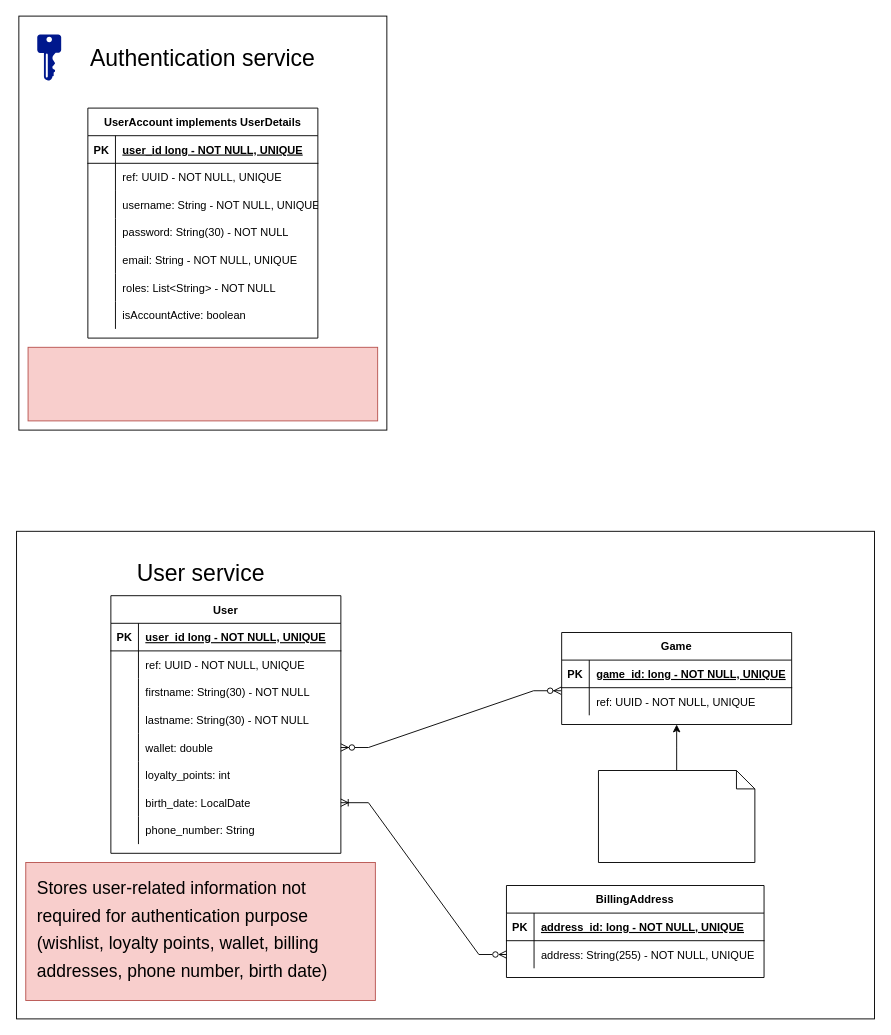
Image size: 891x1035. Some labels were removed from this diagram. The shapes that lost their labels are listed below. From the top down, each one's centre as x and y in pixels, then its label:
At (202,383): "Manages user authentication using JWT and stores UserDetails in DB".
At (676,816): "ref and platform should be a composite key".
